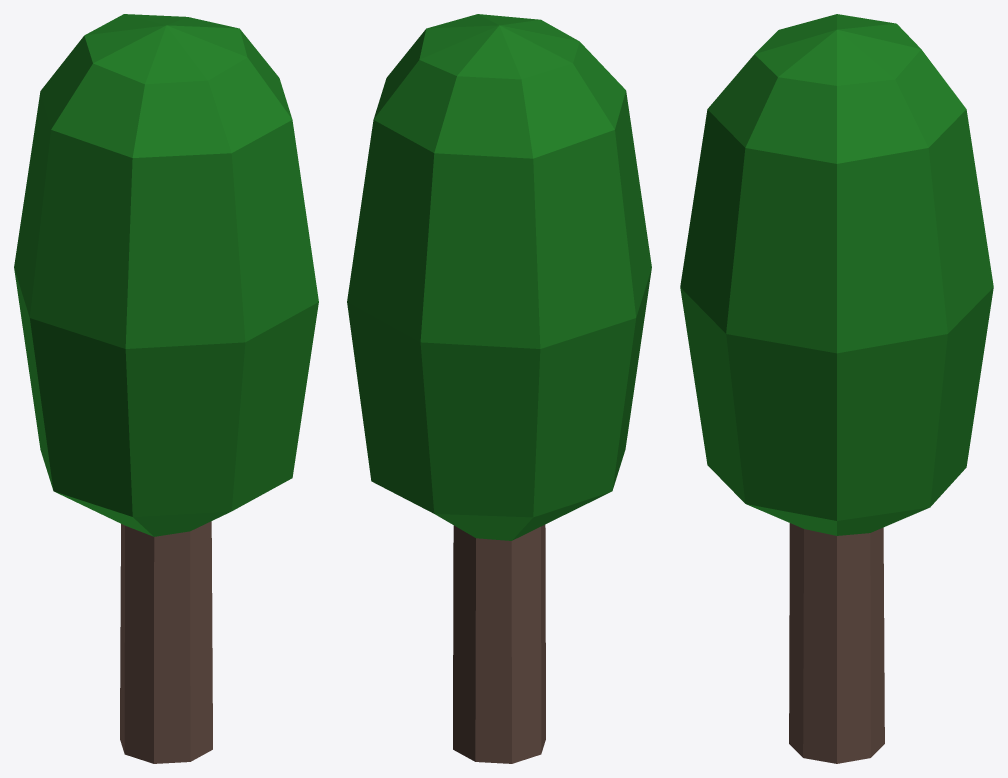
File: tree2.fbx
The picture shows the model from 3 angles, left to right: view 1: azimuth 30°, elevation 25°; view 2: azimuth 150°, elevation 25°; view 3: azimuth 270°, elevation 25°; orthographic projection.
Parts seen in each view (by area): view 1: arbre2; view 2: arbre2; view 3: arbre2.
Part boxes in pixels (x1,y1,x2,y2): arbre2: (14,14,318,763); arbre2: (347,14,651,763); arbre2: (680,14,993,763).
Bounding box in the file's own units: 79.28 × 199 × 79.28.
